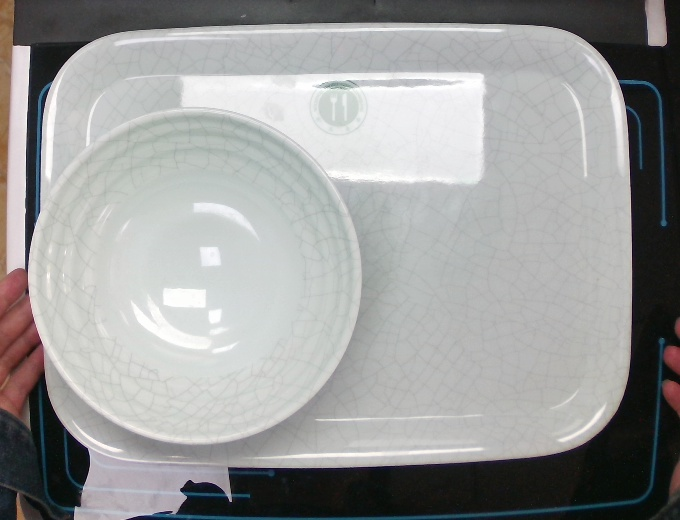JYsf-Da_Tang_Wan: (27, 105, 363, 446)
